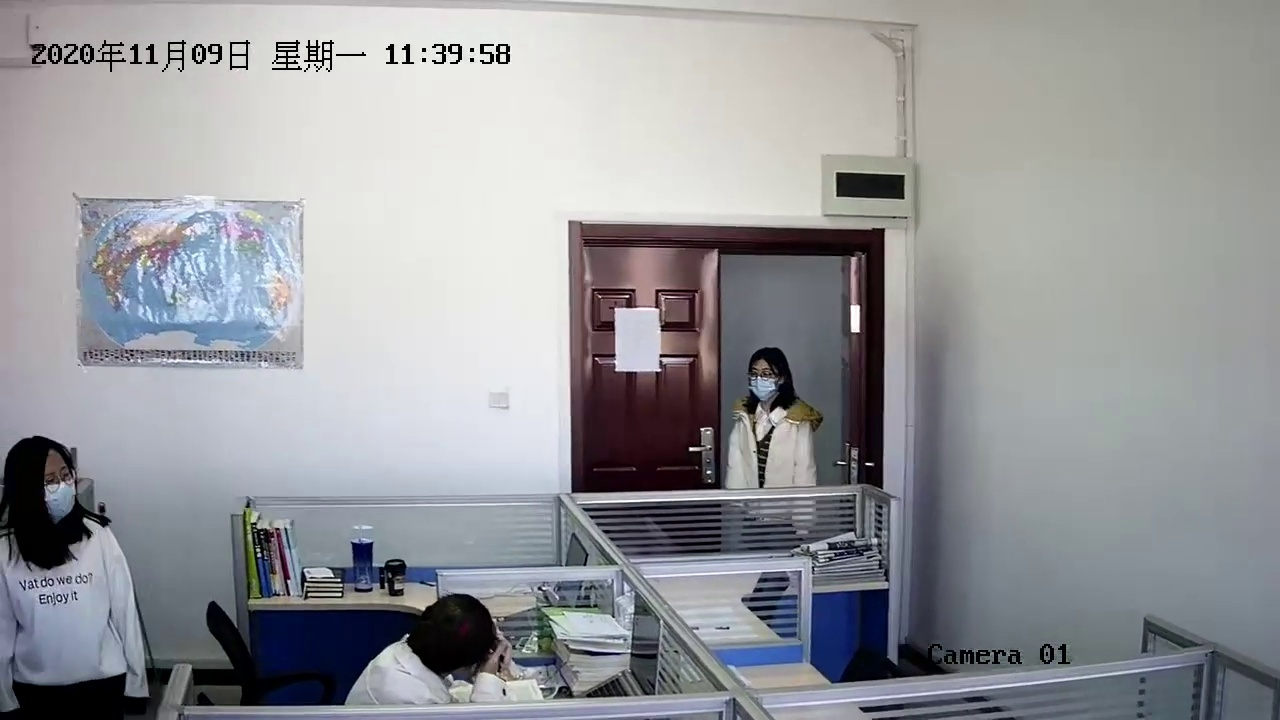mask: (14, 439, 83, 527), (747, 350, 786, 403)
